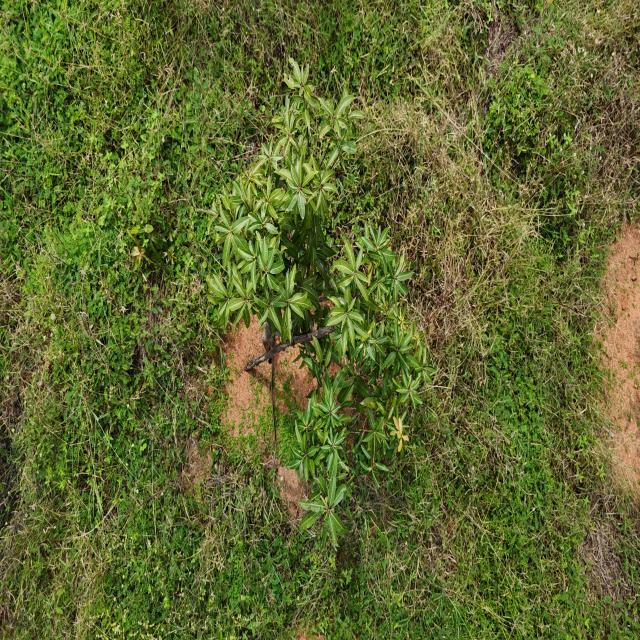mangoTree: (204, 57, 439, 556)
